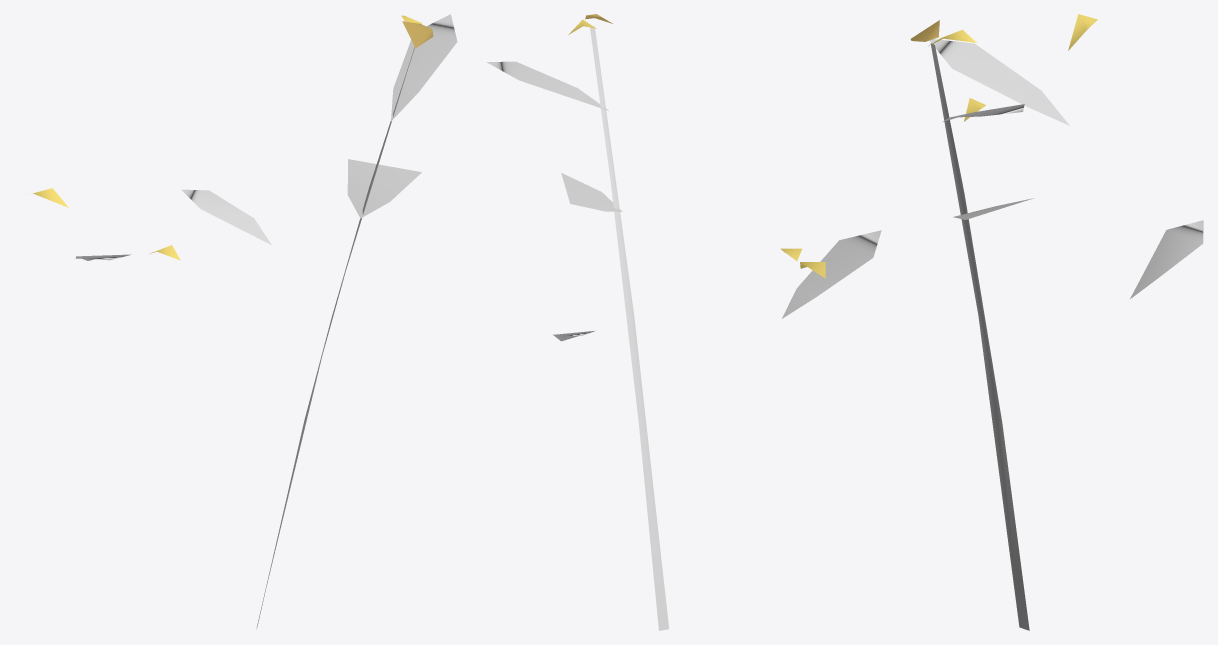
File: FieldWeedSprig_LOD2.glb
3 renders of one model, left to right at view 1: azimuth 30°, elevation 25°; view 2: azimuth 150°, elevation 25°; view 3: azimuth 270°, elevation 25°, orthographic. The views are drawn at different scales.
Parts seen in each view (by area): view 1: FieldWeedSprig_LOD2; view 2: FieldWeedSprig_LOD2; view 3: FieldWeedSprig_LOD2.
Boxes of the visible parts, box(x1,y1,x2,y2) form: FieldWeedSprig_LOD2: box(33, 14, 457, 628); FieldWeedSprig_LOD2: box(486, 14, 881, 630); FieldWeedSprig_LOD2: box(910, 14, 1203, 630).
Bounding box in the file's own units: 0.5468 × 0.7925 × 0.3159.
